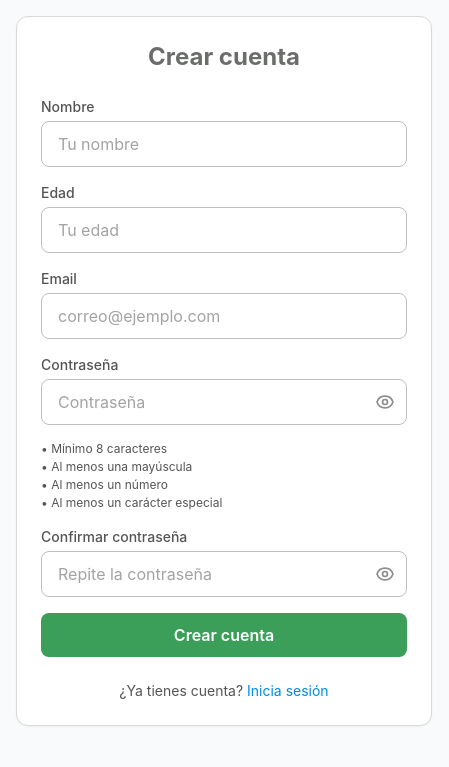
Test: Register › shows password validation errors
In the field labelled "Nombre": (224, 144) [41,121,407,167], type "Test"
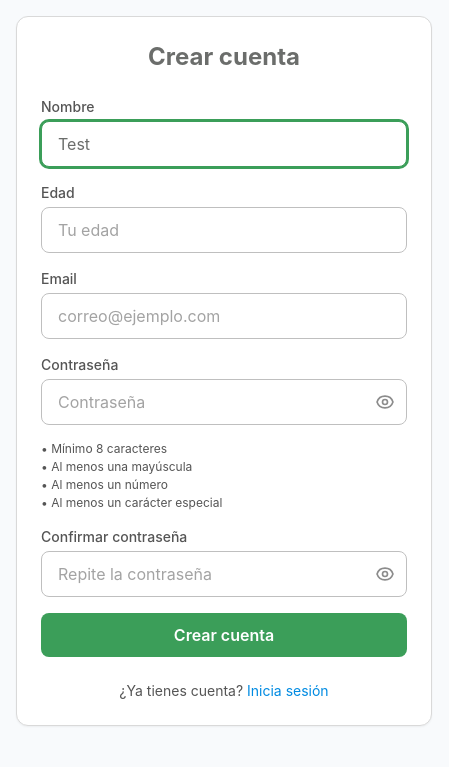
In the number field labelled "Edad": (224, 230) [41,207,407,253], type "25"
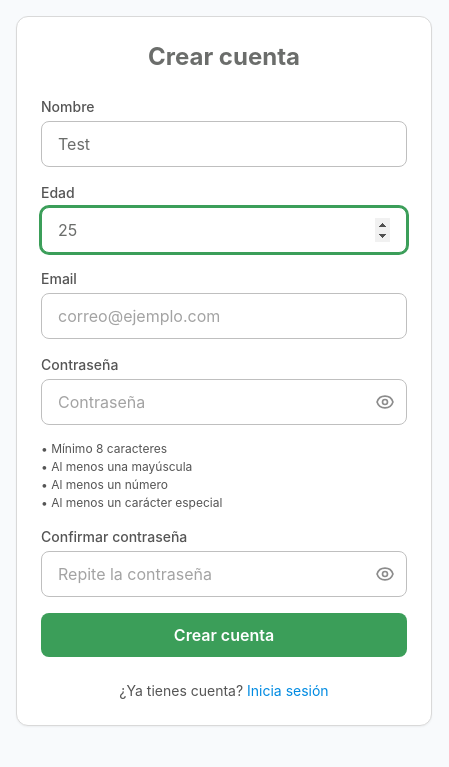
In the field labelled "Email": (224, 316) [41,293,407,339], type "test@test.com"
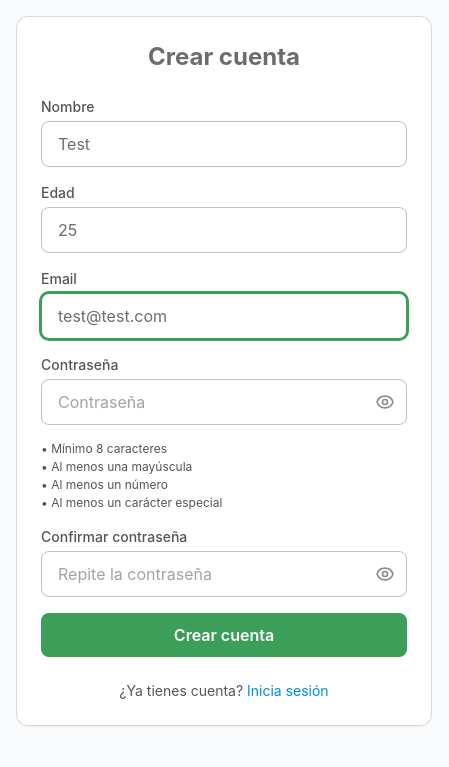
In the password field labelled "Contraseña": (224, 402) [41,379,407,425], type "short"
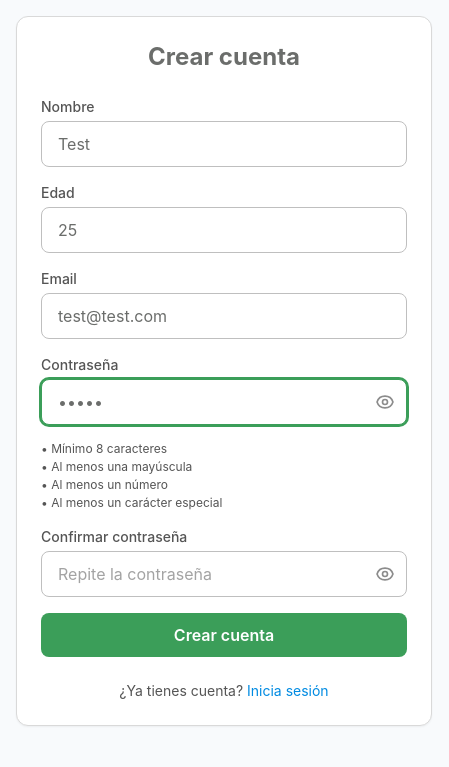
In the password field labelled "Confirmar contraseña": (224, 574) [41,551,407,597], type "short"
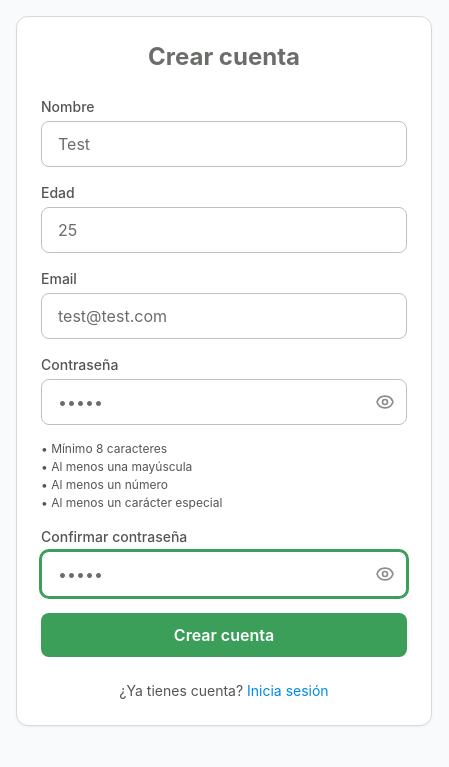
Click the button "Crear cuenta": (224, 635) [41,613,407,657]
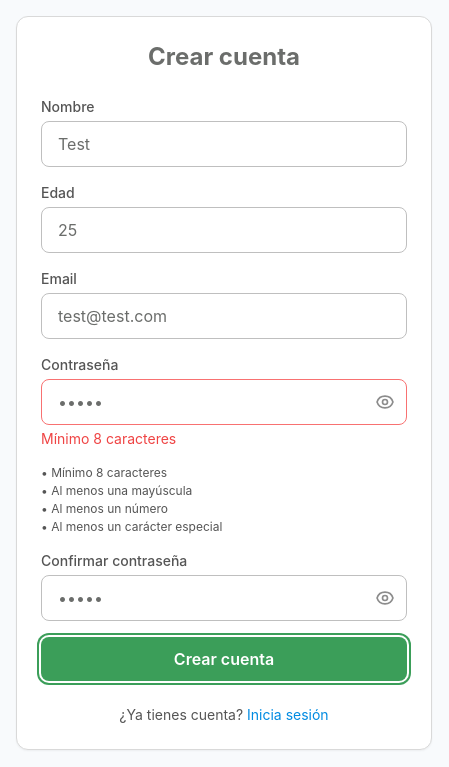
Result: the text "Mínimo 8 caracteres" is shown at [41,430,176,447]
